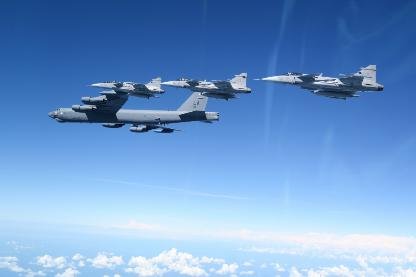B2: (47, 89, 219, 132)
JAS39: (252, 64, 384, 100), (154, 72, 250, 100), (86, 77, 164, 99)
